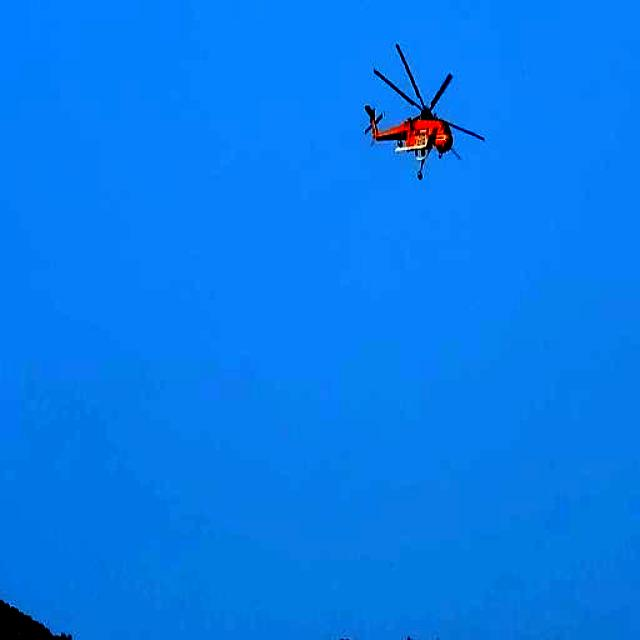drone: (352, 40, 496, 185)
